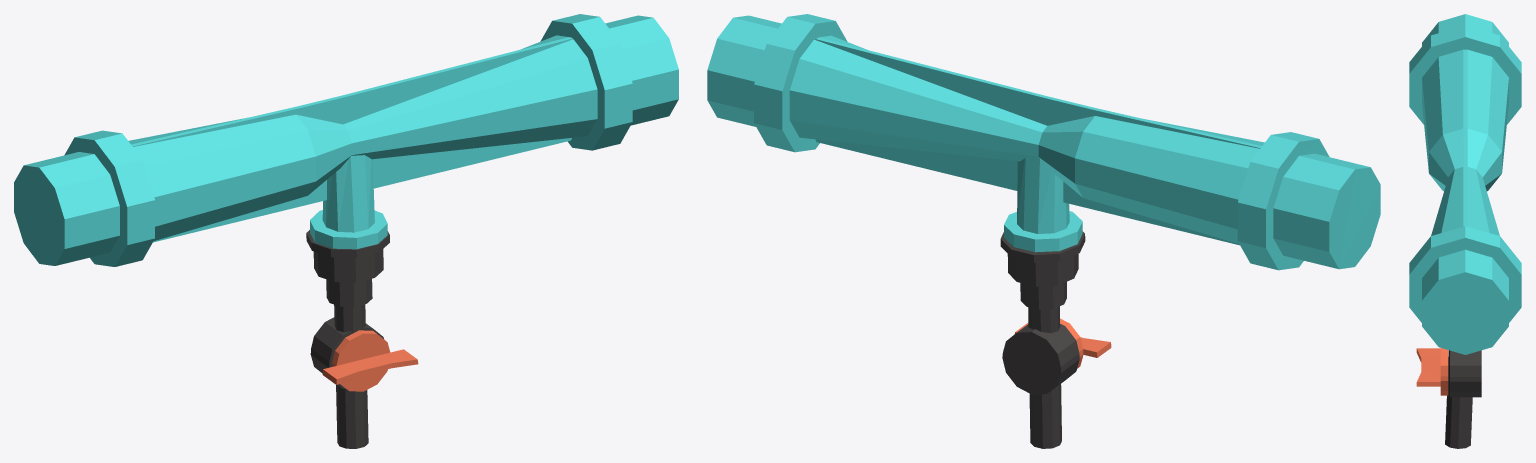
Rendered from Fertilizer Injectors.fbx.
3 views of the same model, side by side, from view 1: azimuth 30°, elevation 25°; view 2: azimuth 150°, elevation 25°; view 3: azimuth 270°, elevation 25° (orthographic). The views are drawn at different scales.
Visible parts, largest first — view 1: Fertilizer_Injectors; view 2: Fertilizer_Injectors; view 3: Fertilizer_Injectors.
Boxes of the visible parts, box(x1,y1,x2,y2) form: Fertilizer_Injectors: box(14, 14, 678, 448); Fertilizer_Injectors: box(707, 14, 1380, 448); Fertilizer_Injectors: box(1409, 14, 1521, 448).
Size of the model in its own units: 77 by 43.35 by 14.13.
